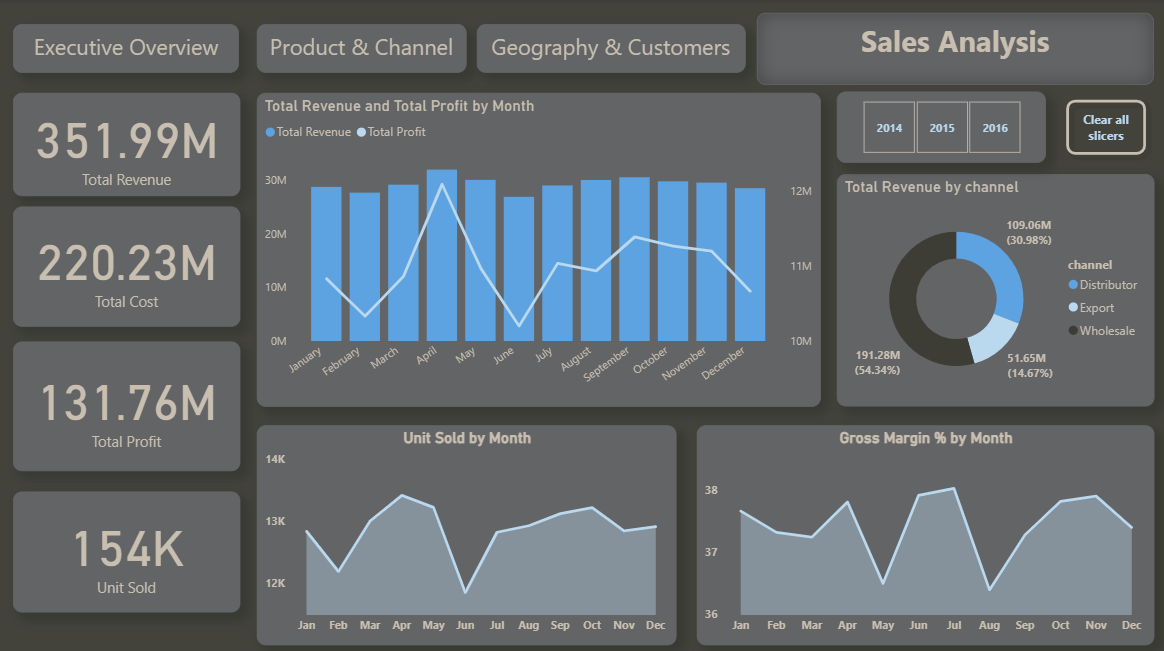

This screenshot's page, from the dashboard's own definition file:
{"tool":"powerbi","page":{"name":"Executive Overview","canvas":[1280,720],"ordinal":0},"visuals":[{"type":"actionButton","box":[7.8,23.1,257,56.2],"z":0,"group":"g1"},{"type":"card","fields":{"Values":["_Measure.Total Revenue"]},"box":[16.5,102.9,249.7,113.9],"z":0},{"type":"actionButton","box":[525.6,27.4,295,53.5],"z":1000,"group":"g1"},{"type":"card","fields":{"Values":["_Measure.Total Cost"]},"box":[16.5,227.8,249.7,131.7],"z":1000},{"type":"actionButton","box":[284.1,27.4,230.5,53.5],"z":2000,"group":"g1"},{"type":"card","fields":{"Values":["_Measure.Total Profit"]},"box":[16.5,376,249.7,142.7],"z":2000},{"type":"card","fields":{"Values":["_Measure.Unit Sold"]},"box":[16.5,540.7,249.7,133.1],"z":3000},{"type":"lineStackedColumnComboChart","fields":{"Category":["final.order_date.Variation.Date Hierarchy.Month"],"Y":["_Measure.Total Revenue"],"Y2":["_Measure.Total Profit"]},"box":[284,102.9,618.9,344.4],"z":4000},{"type":"donutChart","fields":{"Y":["_Measure.Total Revenue"],"Series":["final.channel"]},"box":[920.9,192.3,348.9,255.3],"z":5000},{"type":"lineChart","fields":{"Y":["_Measure.Gross Margin %"],"Category":["final.Month"]},"box":[767.1,467.9,502.2,241.5],"z":6000},{"type":"lineChart","fields":{"Y":["_Measure.Unit Sold"],"Category":["final.Month"]},"box":[284,467.9,461.1,241.5],"z":7000},{"type":"textbox","box":[16.5,27.4,248.4,53.5],"z":8000},{"type":"textbox","box":[284,27.4,230.5,53.5],"z":9000},{"type":"textbox","box":[525.6,27.4,295,53.5],"z":10000},{"type":"textbox","box":[832.9,15.1,436.4,79.6],"z":11000},{"type":"group","id":"g1","title":"Nav Button","box":[7.8,23.1,812.8,57.8],"z":12000},{"type":"slicer","fields":{"Values":["final.order_date.Variation.Date Hierarchy.Year"]},"box":[920.9,102.1,229.8,78.3],"z":13000},{"type":"actionButton","box":[1164.3,102.1,105.5,78.3],"z":14000}]}

Visuals, with their boxes in screenshot pixels (x1, y1, x2, y2), scaled from the page's 1280x720 canvas onto the 1164x651 screenshot:
actionButton: Rect(7, 21, 241, 72)
card - _Measure.Total Revenue: Rect(15, 93, 242, 196)
actionButton: Rect(478, 25, 746, 73)
card - _Measure.Total Cost: Rect(15, 206, 242, 325)
actionButton: Rect(258, 25, 468, 73)
card - _Measure.Total Profit: Rect(15, 340, 242, 469)
card - _Measure.Unit Sold: Rect(15, 489, 242, 609)
lineStackedColumnComboChart - final.order_date.Variation.Date Hierarchy.Month x _Measure.Total Revenue: Rect(258, 93, 821, 404)
donutChart - _Measure.Total Revenue x final.channel: Rect(837, 174, 1155, 405)
lineChart - _Measure.Gross Margin % x final.Month: Rect(698, 423, 1154, 641)
lineChart - _Measure.Unit Sold x final.Month: Rect(258, 423, 678, 641)
textbox: Rect(15, 25, 241, 73)
textbox: Rect(258, 25, 468, 73)
textbox: Rect(478, 25, 746, 73)
textbox: Rect(757, 14, 1154, 86)
"Nav Button" group: Rect(7, 21, 746, 73)
slicer - final.order_date.Variation.Date Hierarchy.Year: Rect(837, 92, 1046, 163)
actionButton: Rect(1059, 92, 1155, 163)
